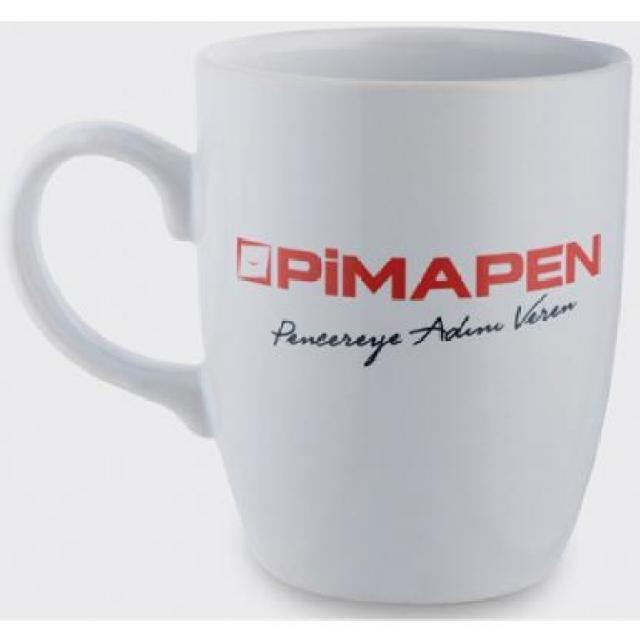taza: (3, 24, 633, 602)
